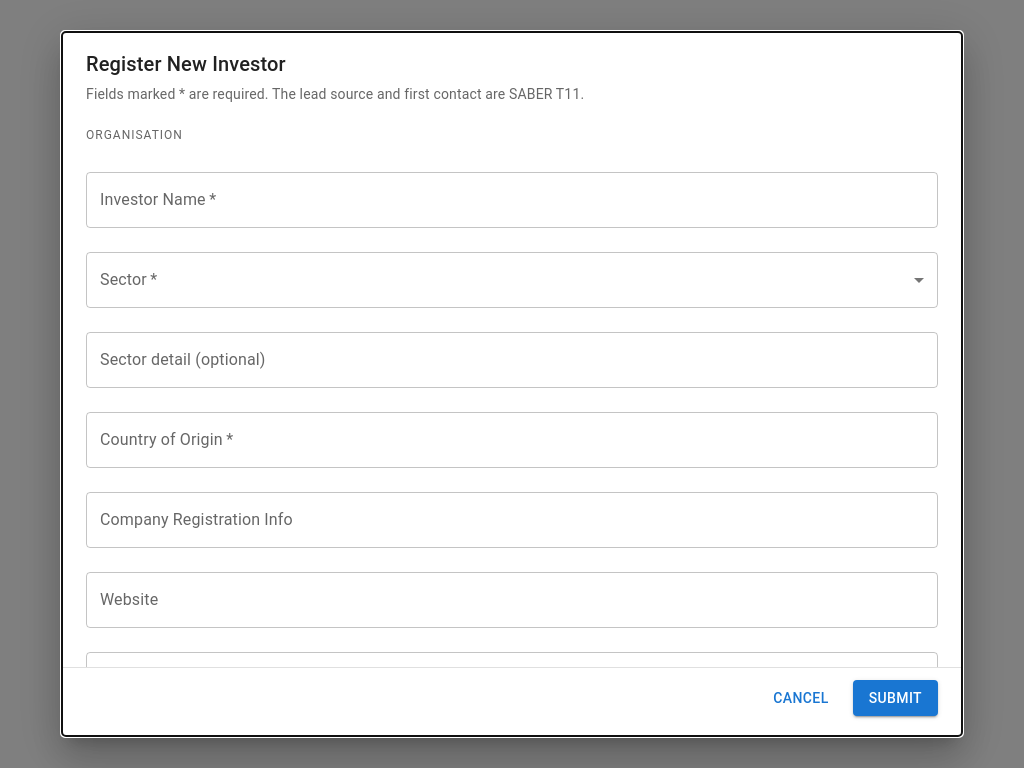
Test case: New-investor form (T11) › lead source is required; nothing is sent without it
The width and height of the screenshot is (1024, 768).
Click the button "Submit" at x=895, y=698, box [853,680,938,716]
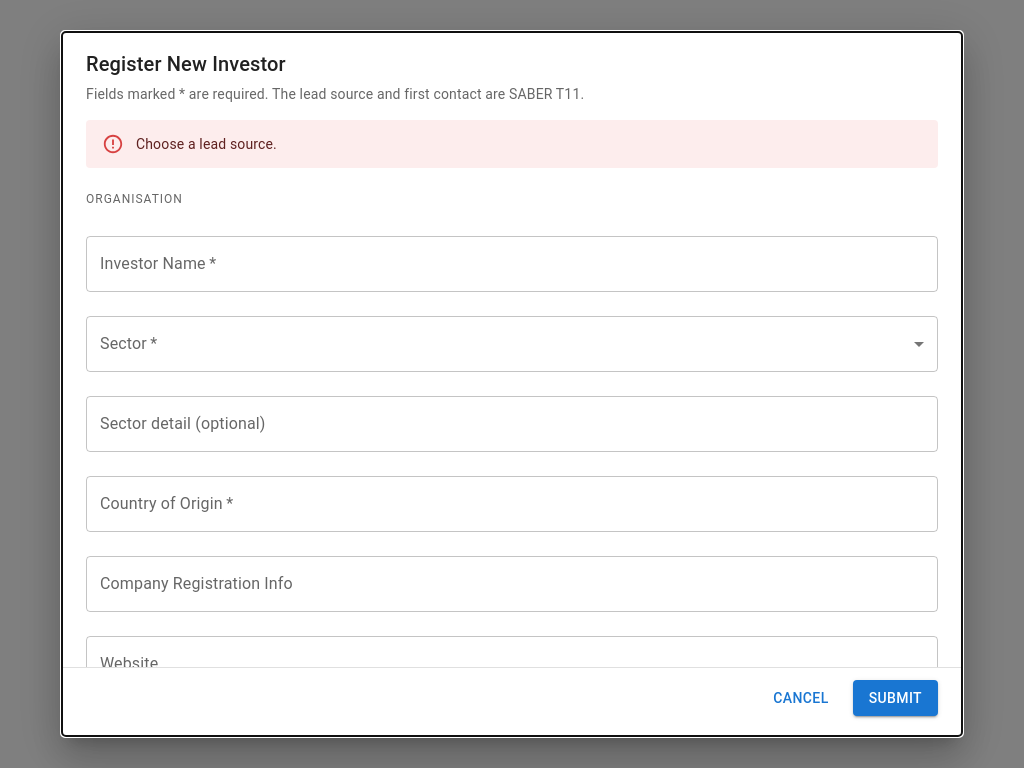
Result: the message reads "Choose a lead source." at [136,136,277,152]
